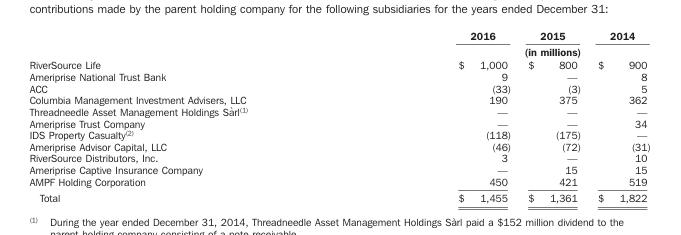table: (28, 28, 649, 203)
table column: (28, 28, 352, 203), (352, 28, 518, 203), (518, 28, 588, 203), (588, 28, 649, 203)
table column header: (28, 28, 649, 58)
table row: (28, 28, 649, 43), (28, 43, 649, 58), (28, 175, 649, 189), (28, 189, 649, 203), (28, 58, 649, 70), (28, 70, 649, 82), (28, 93, 649, 105), (28, 116, 649, 128), (28, 128, 649, 140), (28, 151, 649, 163), (28, 163, 649, 175), (28, 82, 649, 93), (28, 105, 649, 116), (28, 140, 649, 151)
table spanning cell: (352, 43, 649, 58)
